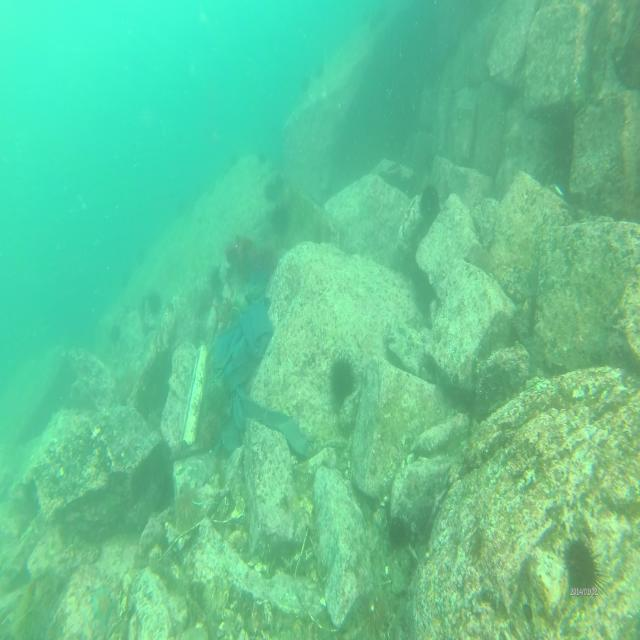echinus: (559, 527, 606, 606), (328, 352, 354, 405), (170, 485, 198, 533), (416, 181, 444, 226), (386, 512, 406, 547)
starfish: (88, 583, 116, 627)
